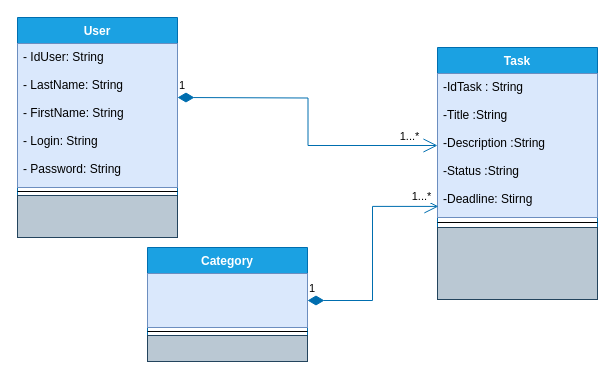
The diagram is 615 pixels wide and 379 high, and some of its shapes have lost their labels. The box of each missing label's shape, as (x1, y1, x2, y2) in pixels:
+ AddTask():void + UpdateTask(): void + DeleteTask() : void + ListTask() :List: (436, 226, 598, 300)
+ SignUp(): void + SignIn() : void: (16, 194, 178, 238)
-IdCat : String -Name : String: (146, 272, 308, 328)
